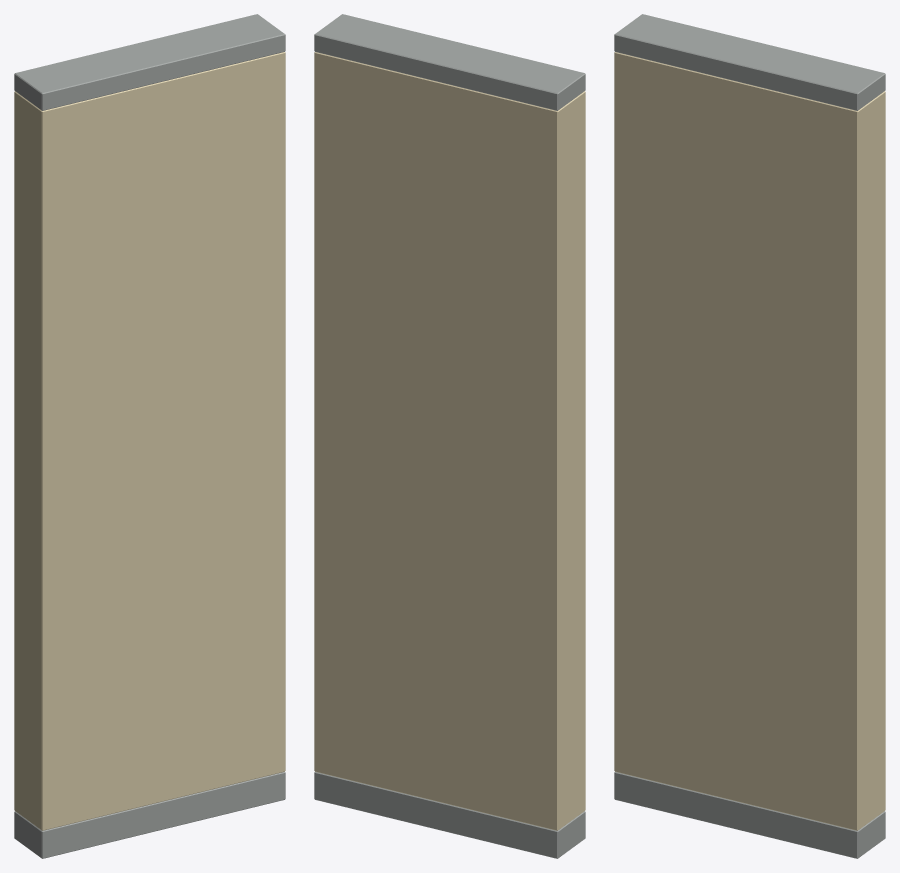
Rendered from b21_wall_solid_1m.glb.
The picture shows the model from 3 angles, left to right: view 1: azimuth 30°, elevation 25°; view 2: azimuth 150°, elevation 25°; view 3: azimuth 330°, elevation 25°; orthographic projection.
Visible parts, largest first — view 1: b21_wall_solid_1m; view 2: b21_wall_solid_1m; view 3: b21_wall_solid_1m.
Part boxes in pixels (bbox=[...]): b21_wall_solid_1m: bbox=[14, 14, 285, 858]; b21_wall_solid_1m: bbox=[314, 14, 585, 858]; b21_wall_solid_1m: bbox=[614, 14, 885, 858].
Size of the model in its own units: 1 by 3 by 0.2.
